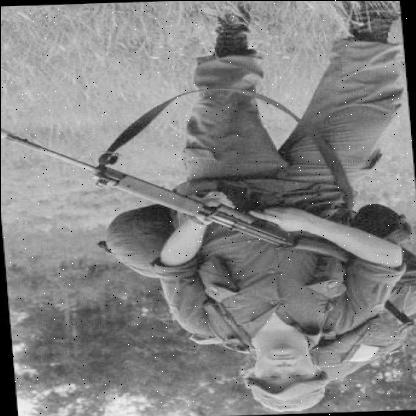rifle: (0, 109, 372, 280)
